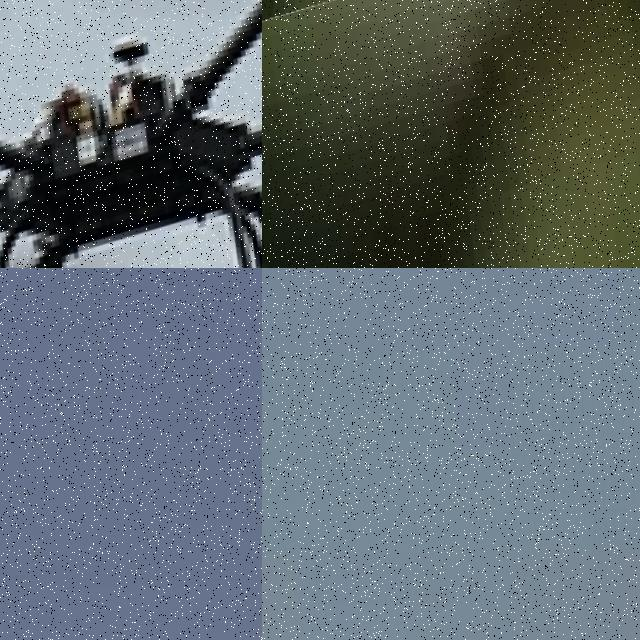drone: (262, 0, 640, 268), (0, 0, 262, 268)
